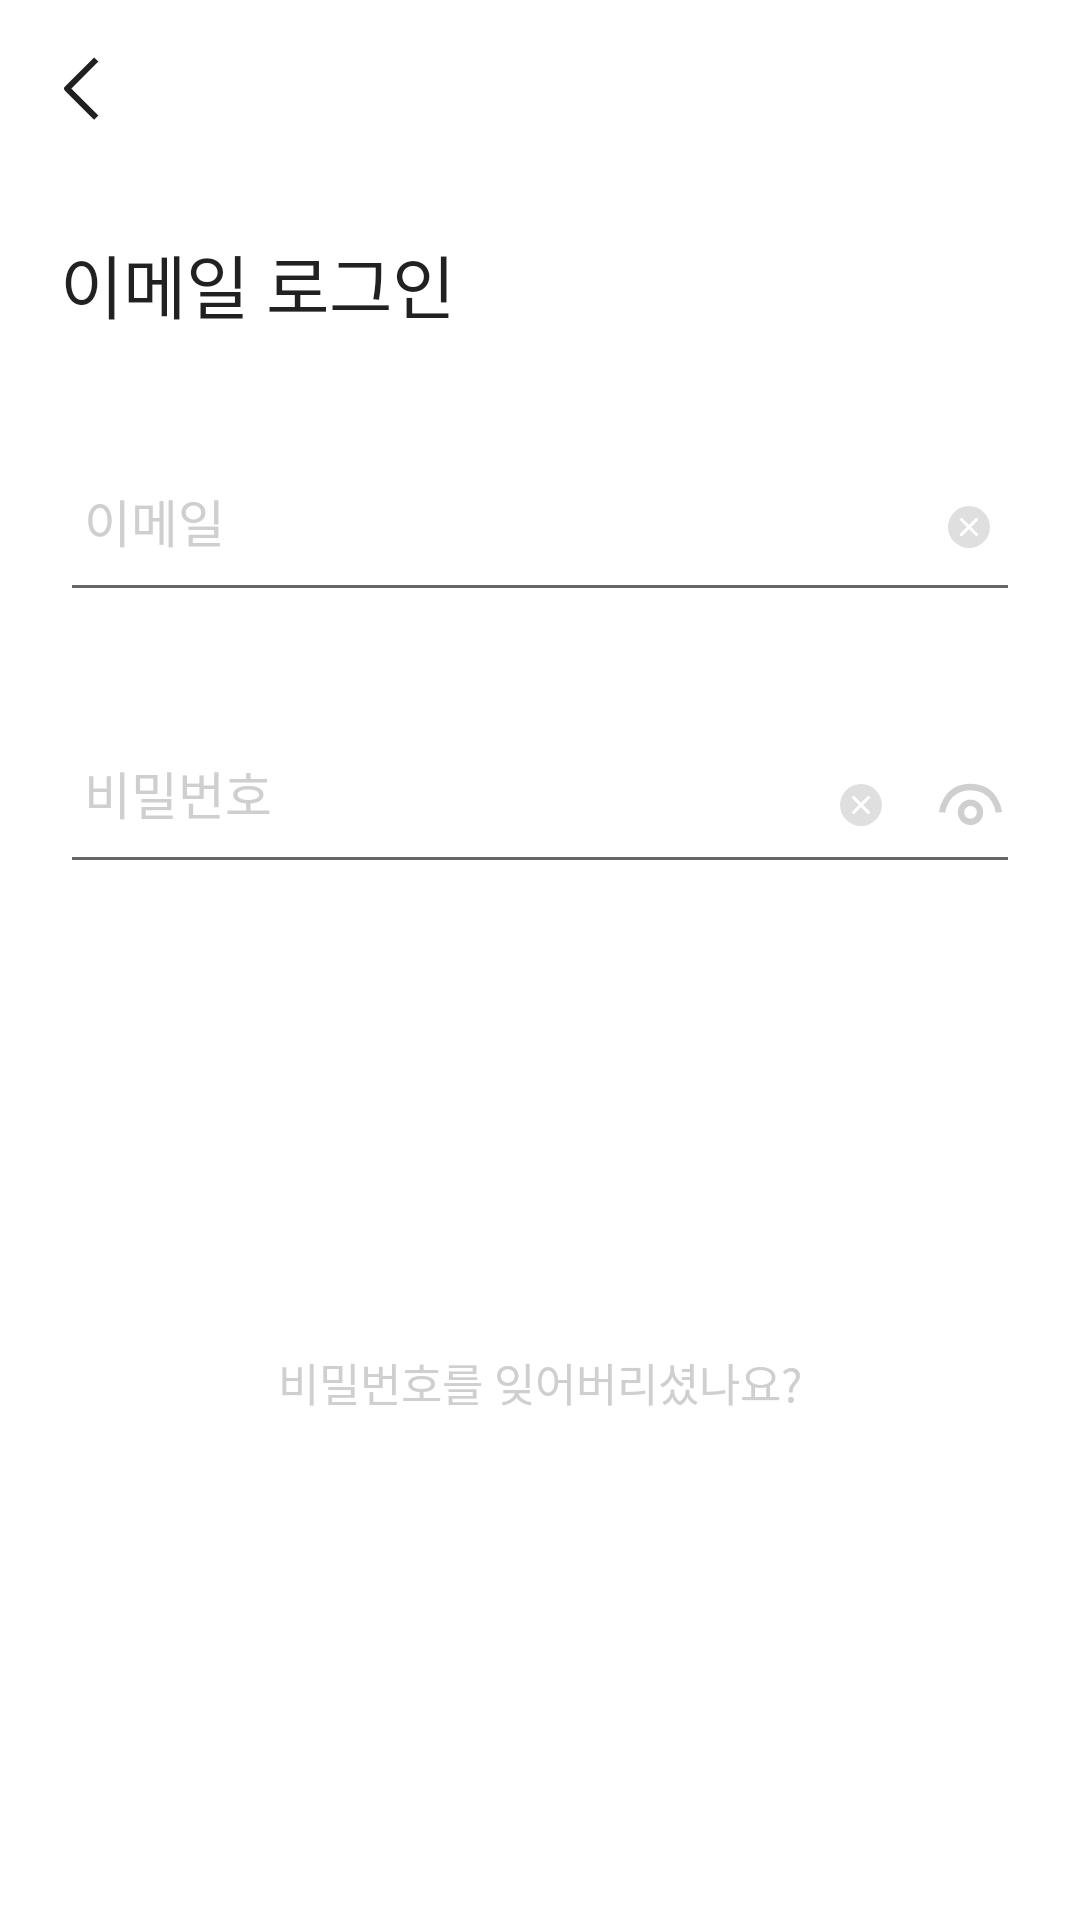

Screen size 1080w x 1920h. Icon name, then its box in pixels as (x1, y1, x2, y2):
back: (64, 57, 99, 120)
login delete: (948, 506, 990, 548), (840, 784, 882, 826)
look: (939, 784, 1002, 825)
